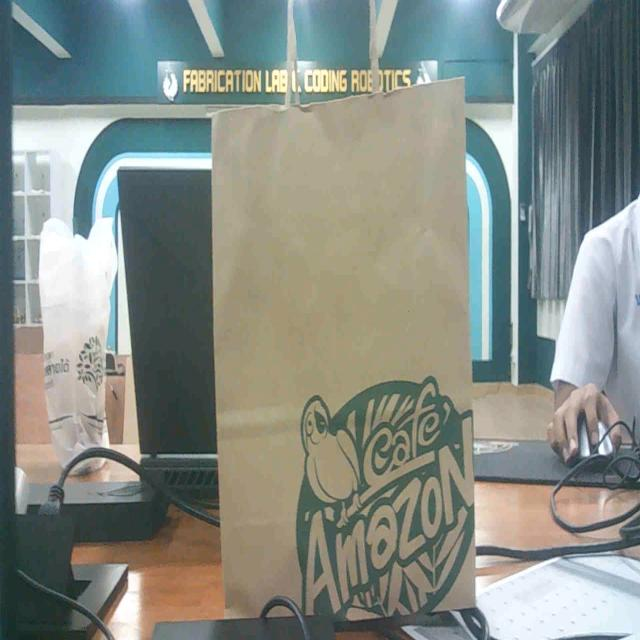bag: (195, 71, 487, 634)
